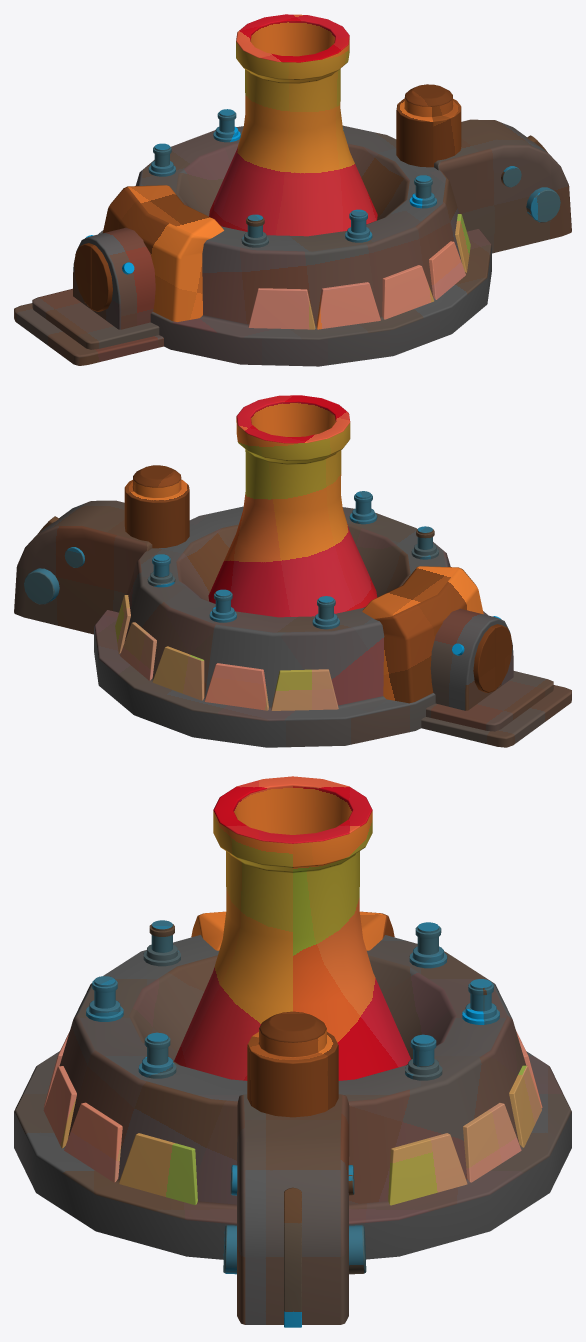
Rendered from mars_thermal.glb.
3 renders of one model, top to bottom at view 1: azimuth 30°, elevation 25°; view 2: azimuth 150°, elevation 25°; view 3: azimuth 270°, elevation 25°, orthographic. The views are drawn at different scales.
Parts seen in each view (by area): view 1: Reactor; view 2: Reactor; view 3: Reactor.
Boxes of the visible parts, x1=… form: Reactor: x1=14, y1=14, x2=571, y2=366; Reactor: x1=14, y1=395, x2=571, y2=747; Reactor: x1=14, y1=776, x2=571, y2=1327.
Bounding box in the file's own units: 15.67 × 7.12 × 10.64.
1 material, 1 textured.
